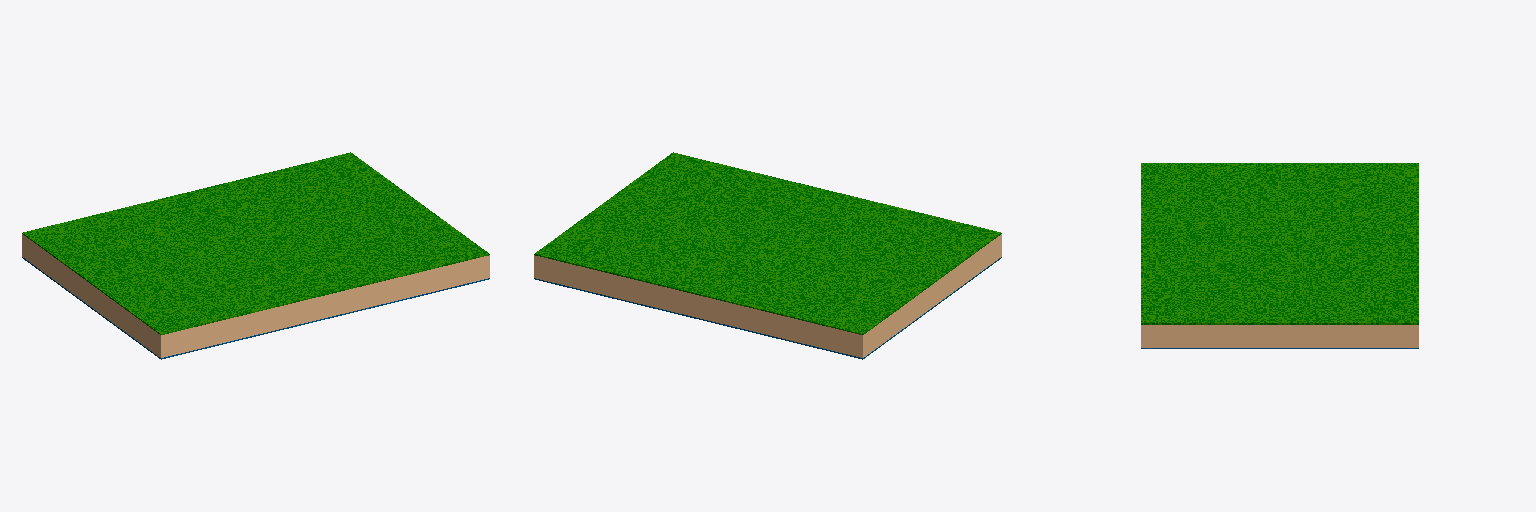
3 renders of one model, left to right at view 1: azimuth 30°, elevation 25°; view 2: azimuth 150°, elevation 25°; view 3: azimuth 270°, elevation 25°, orthographic.
Visible parts, largest first — view 1: object 1; view 2: object 1; view 3: object 1.
Boxes of the visible parts, x1,y1,x2,y2 form: object 1: [22, 152, 489, 359]; object 1: [534, 152, 1001, 359]; object 1: [1141, 163, 1418, 348].
Size of the model in its own units: 25.6 by 1.9 by 18.7.
1 materials, 1 textured.